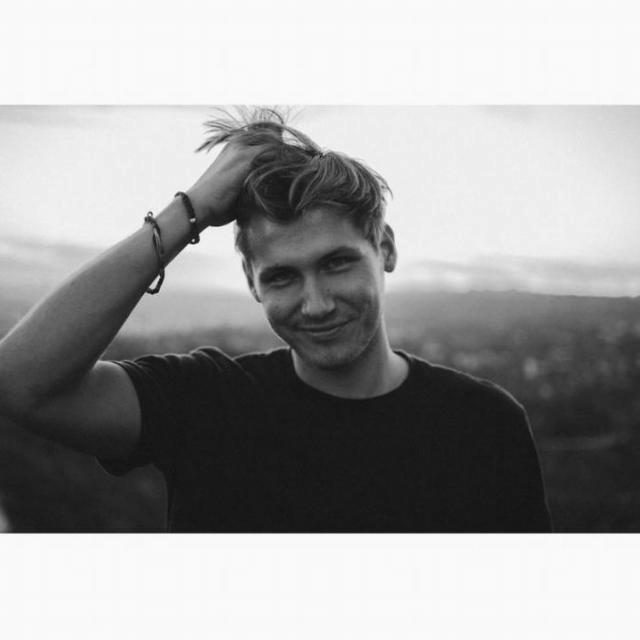real: (230, 168, 396, 378)
